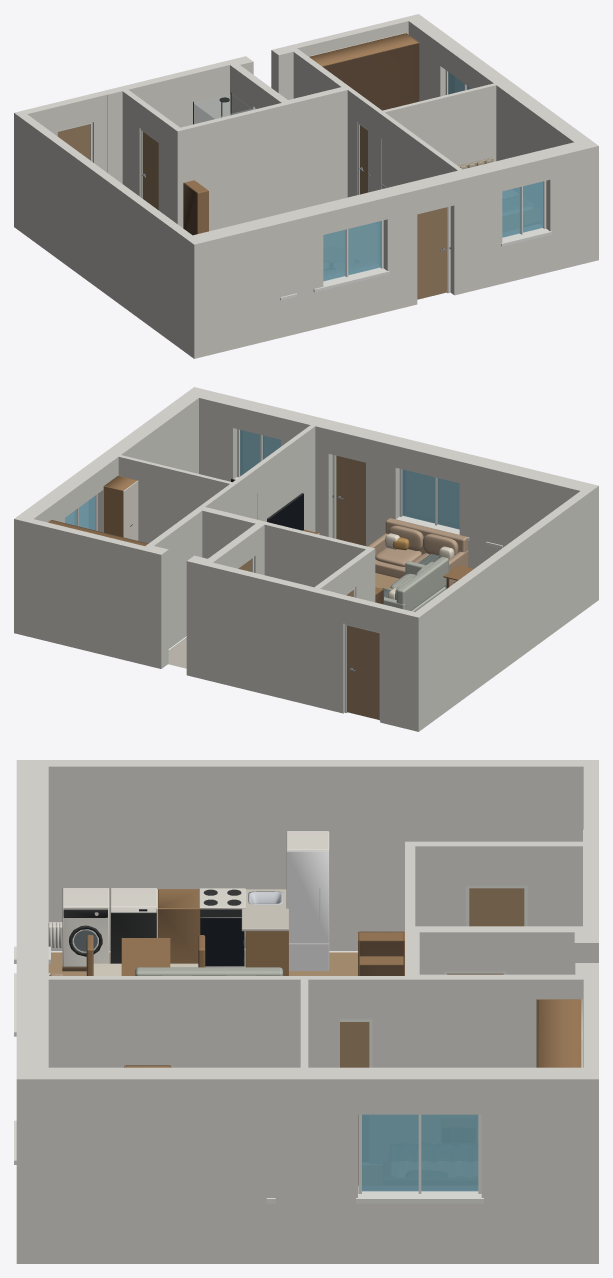
The model's file is oursv11b_57.glb.
3 views of the same model, one above another, from view 1: azimuth 30°, elevation 25°; view 2: azimuth 150°, elevation 25°; view 3: azimuth 270°, elevation 25° (orthographic). The views are drawn at different scales.
Parts seen in each view (by area): view 1: wall|high_quality_architectural_672_F1_scaled|apt0, wall|high_quality_architectural_672_F1_scaled|apt1 Door 0 | , wall|high_quality_architectural_672_F1_scaled|apt11 Window ., Carcass back, wall|high_quality_architectural_672_F1_scaled|apt1 Door 0 |, Backrest, Drum window; view 2: wall|high_quality_architectural_672_F1_scaled|apt0, wall|high_quality_architectural_672_F1_scaled|apt1 Door 0 | , wall|high_quality_architectural_672_F1_scaled|apt11 Window ., Back upholstered shell.001, Back upholstered shell, wall|high_quality_architectural_672_F1_scaled|apt1 Door 0 |, Backrest, Appliance enclosure, Dark appliance door; view 3: wall|high_quality_architectural_672_F1_scaled|apt0, Backrest, wall|high_quality_architectural_672_F1_scaled|apt11 Window ., Appliance enclosure, Freezer drawer, wall|high_quality_architectural_672_F1_scaled|apt1 Door 0 |, wall|high_quality_architectural_672_F1_scaled|apt1 Door 0 | , Appliance door, Dark appliance door, Carcass back, Stone worktop, floor|high_quality_architectural_672_F1_scaled__R02 (+1 smaller).
Boxes of the visible parts, x1,y1,x2,y2 form: wall|high_quality_architectural_672_F1_scaled|apt0: (14,14,598,358); wall|high_quality_architectural_672_F1_scaled|apt1 Door 0 | : (57,124,447,299); wall|high_quality_architectural_672_F1_scaled|apt11 Window .: (323,72,543,281); Carcass back: (183,43,419,235); wall|high_quality_architectural_672_F1_scaled|apt1 Door 0 |: (57,70,552,300); Backrest: (183,33,419,233); Drum window: (194,94,252,124); wall|high_quality_architectural_672_F1_scaled|apt0: (14,387,598,731); wall|high_quality_architectural_672_F1_scaled|apt1 Door 0 | : (238,455,379,719); wall|high_quality_architectural_672_F1_scaled|apt11 Window .: (65,430,459,530); Back upholstered shell.001: (368,518,468,585); Back upholstered shell: (384,557,448,611); wall|high_quality_architectural_672_F1_scaled|apt1 Door 0 |: (76,429,502,720); Backrest: (48,475,491,604); Appliance enclosure: (123,480,319,540); Dark appliance door: (231,479,303,530); wall|high_quality_architectural_672_F1_scaled|apt0: (16,760,598,1263); Backrest: (86,889,580,1067); wall|high_quality_architectural_672_F1_scaled|apt11 Window .: (362,1114,478,1191); Appliance enclosure: (48,831,582,1067); Freezer drawer: (286,851,328,970); wall|high_quality_architectural_672_F1_scaled|apt1 Door 0 |: (14,885,527,1203); wall|high_quality_architectural_672_F1_scaled|apt1 Door 0 | : (340,888,524,1067); Appliance door: (63,889,243,963); Dark appliance door: (74,909,244,966); Carcass back: (62,931,538,1185); Stone worktop: (241,889,288,931); floor|high_quality_architectural_672_F1_scaled__R02: (48,952,357,975).
Size of the model in its own units: 9.64 by 2.61 by 7.45.
